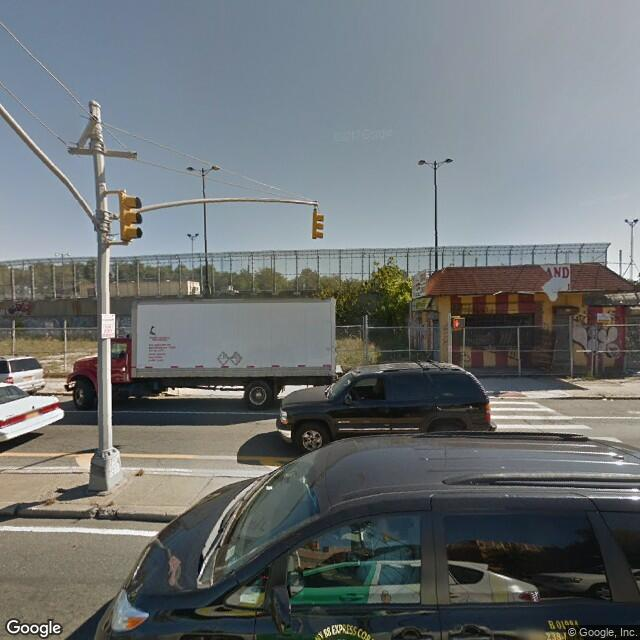litter: (600, 393, 607, 402)
